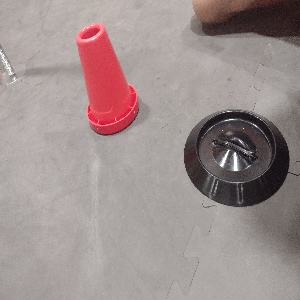Red_1: (72, 21, 140, 138)
